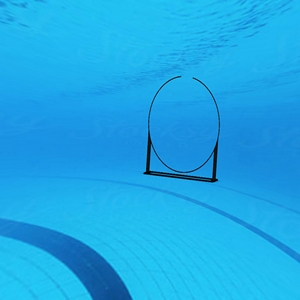circle: (142, 73, 225, 188)
